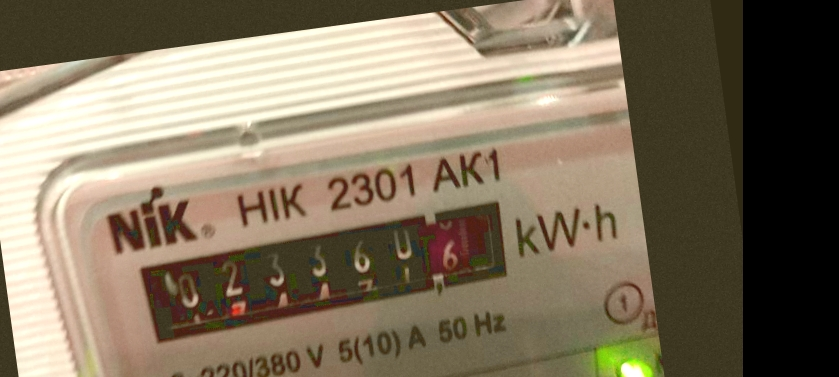0: (172, 266, 203, 311), (388, 222, 416, 262)
2: (215, 254, 246, 298)
3: (261, 247, 287, 289), (303, 239, 329, 280)
6: (344, 233, 375, 277), (437, 235, 463, 274)
screen: (113, 185, 527, 355)
